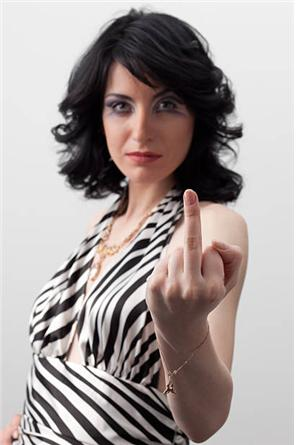insulting_gesture: (147, 187, 244, 330)
